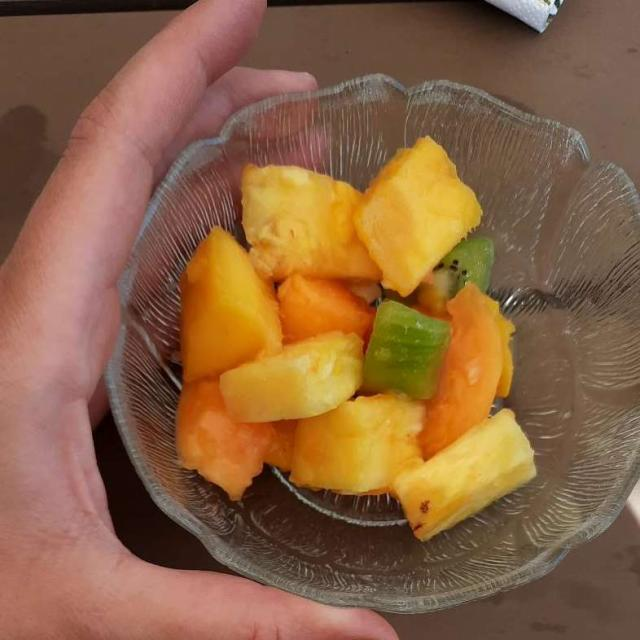fruit-salad: (179, 148, 529, 532)
